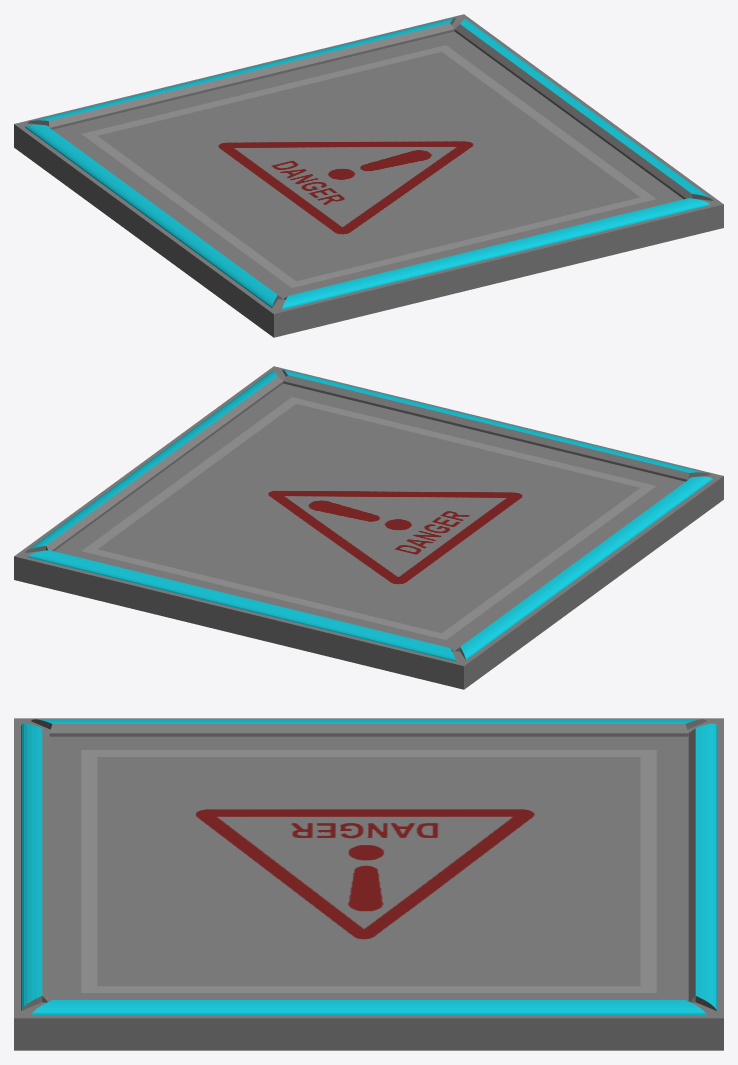
The model's file is Trap.fbx.
3 renders of one model, top to bottom at view 1: azimuth 30°, elevation 25°; view 2: azimuth 150°, elevation 25°; view 3: azimuth 270°, elevation 25°, orthographic. The views are drawn at different scales.
Parts seen in each view (by area): view 1: Trap, WindowTrap; view 2: Trap, WindowTrap; view 3: Trap, WindowTrap.
Boxes of the visible parts, x1,y1,x2,y2 form: Trap: [52, 31, 683, 298]; WindowTrap: [14, 14, 723, 337]; Trap: [54, 383, 685, 650]; WindowTrap: [14, 366, 723, 689]; Trap: [49, 736, 688, 1000]; WindowTrap: [14, 718, 723, 1050].
Bounding box in the file's own units: 2 × 2 × 0.12.
Materials: 5 (2 with a texture image).
